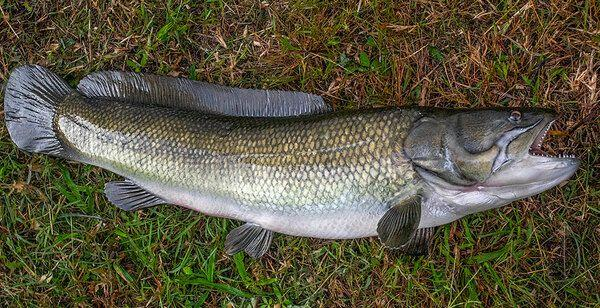Snakehead: (2, 58, 581, 262)
